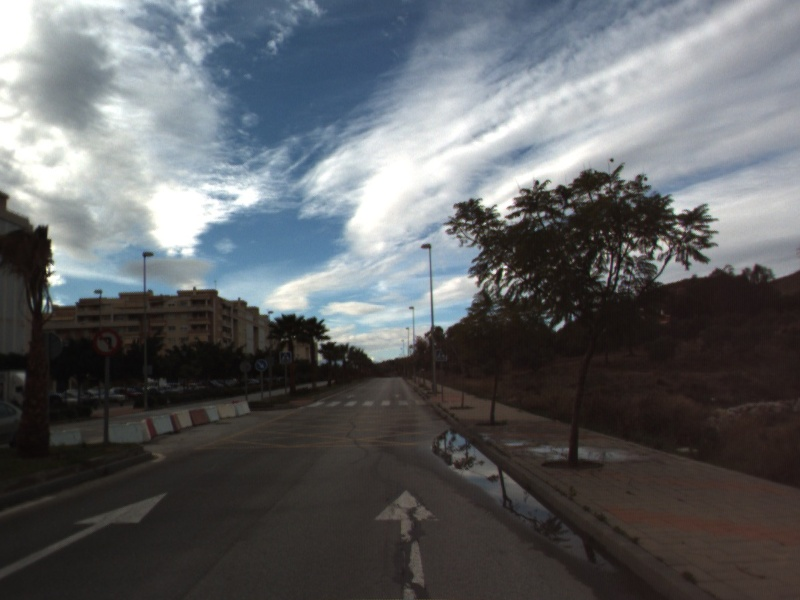STRAIGHT: (1, 490, 171, 581), (372, 487, 443, 600)
